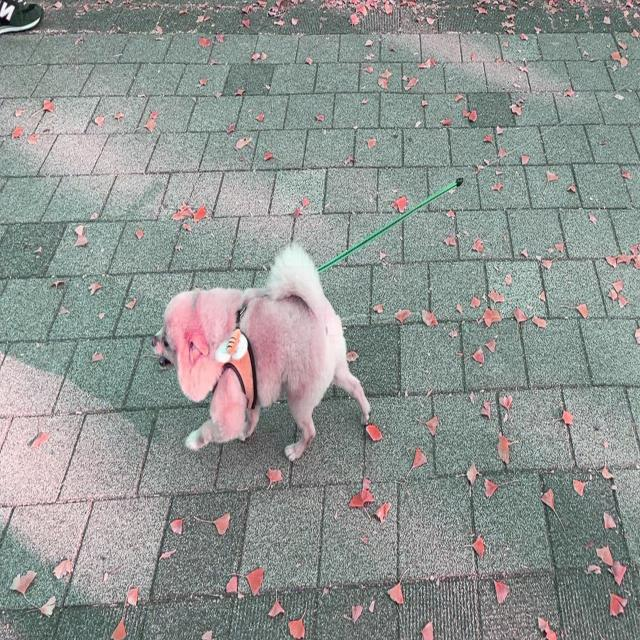Dog: (151, 239, 372, 463)
